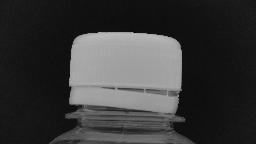Broken Ring: (66, 77, 182, 115)
